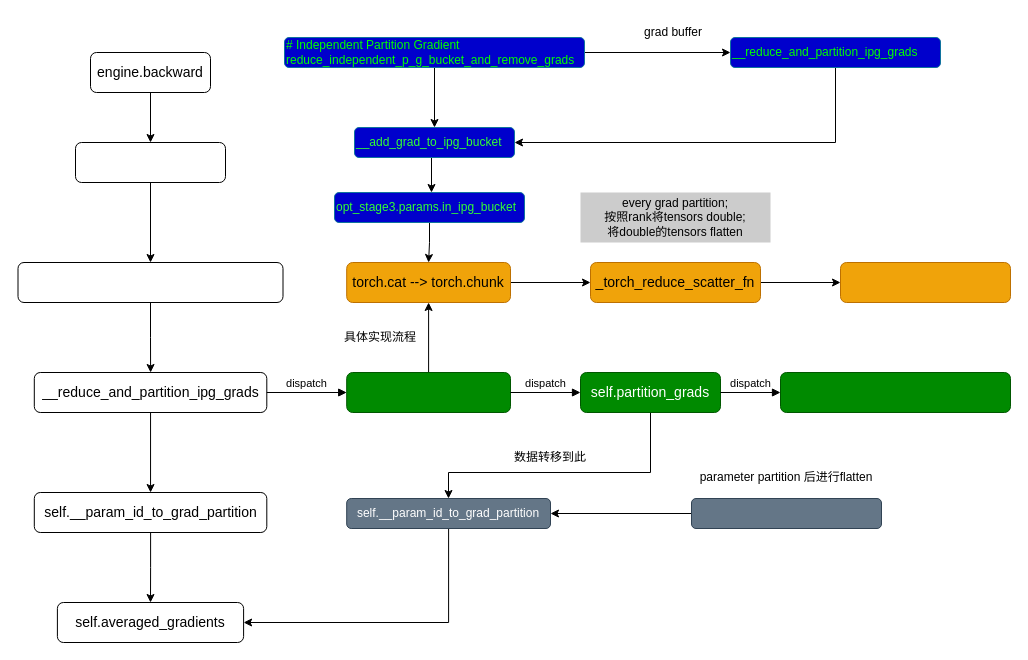
This 1028x660 diagram has some shape labels left out. Here are the shapes that lost their labels. From the top down, the centre of each, then its label:
At (150,162): "self.allreduce_grads".
At (150,282): "optimizer_stage3: independent_gradient_partition_epilogue".
At (925,282): "return grad_partitons".
At (428,392): "__avg_scatter_grads".
At (895,392): "self.params_in_ipg_bucket.clear()".
At (786,513): "self.grad_partition_flat_buffer".
